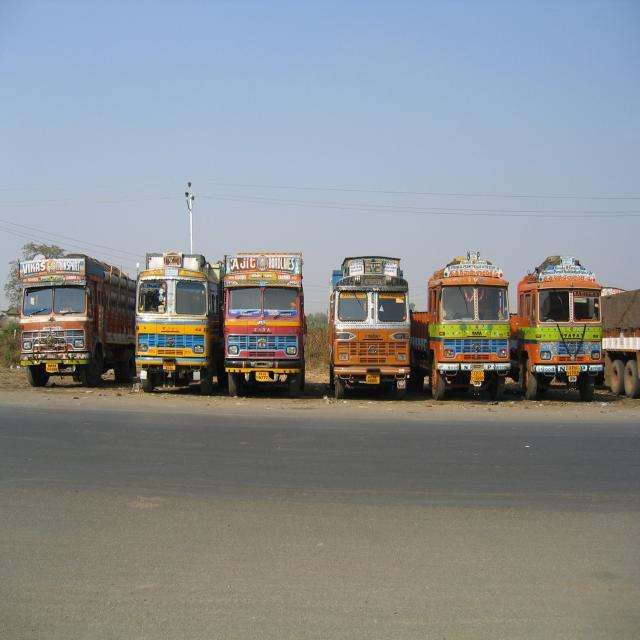Truck: (20, 256, 139, 392), (508, 270, 610, 396), (414, 265, 512, 393), (221, 250, 306, 390), (330, 264, 414, 396), (134, 256, 216, 386)
